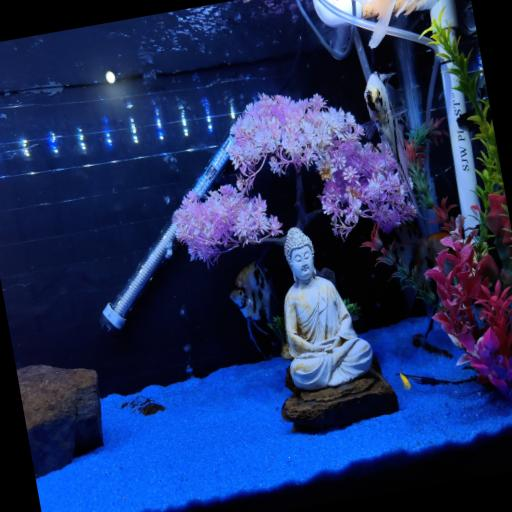Fish: (365, 73, 416, 206), (230, 263, 272, 357), (356, 0, 427, 48), (397, 371, 476, 389), (461, 2, 476, 35), (400, 371, 411, 389)
